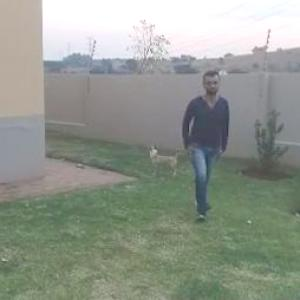follow: (176, 64, 228, 222)
